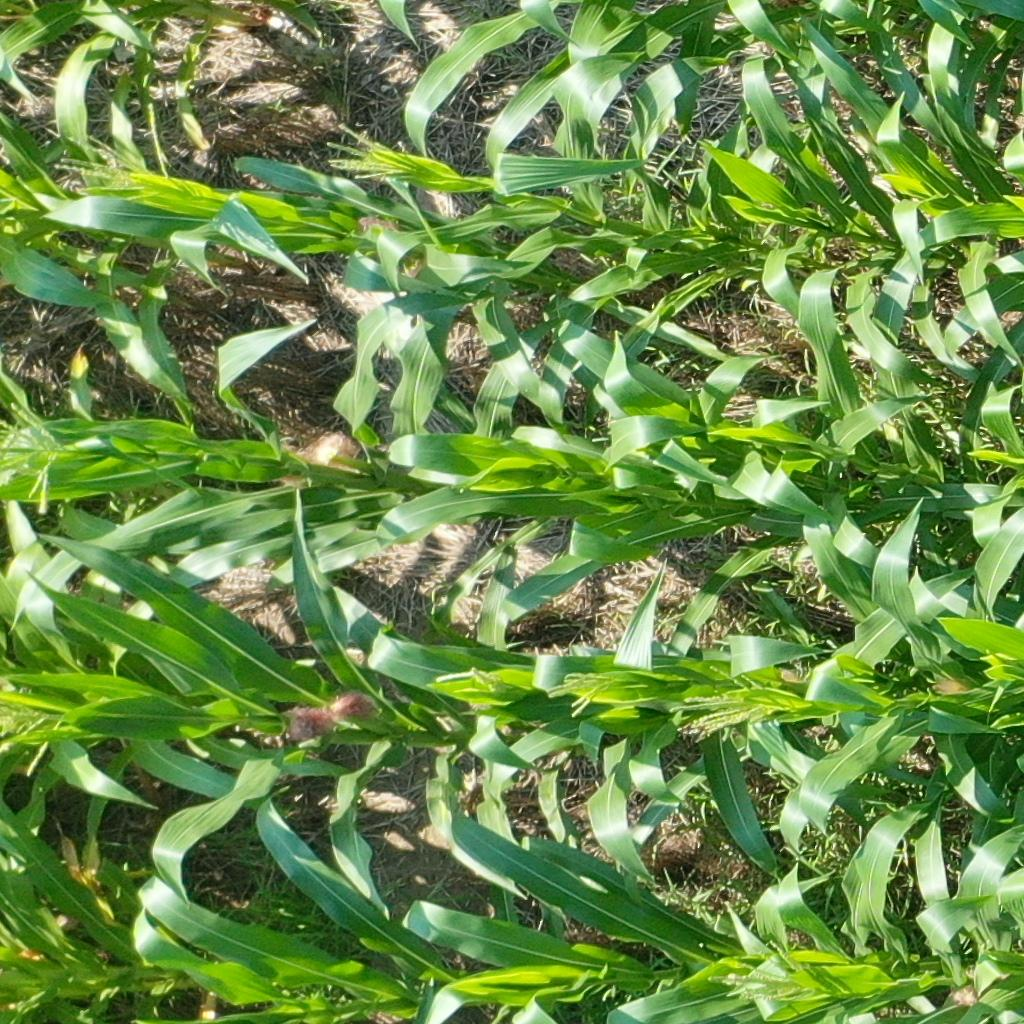Tassel: (1, 401, 82, 516), (670, 662, 782, 742), (47, 125, 152, 206), (705, 935, 812, 1004), (1, 690, 67, 781), (320, 116, 408, 179), (542, 666, 614, 718), (436, 662, 510, 703)
